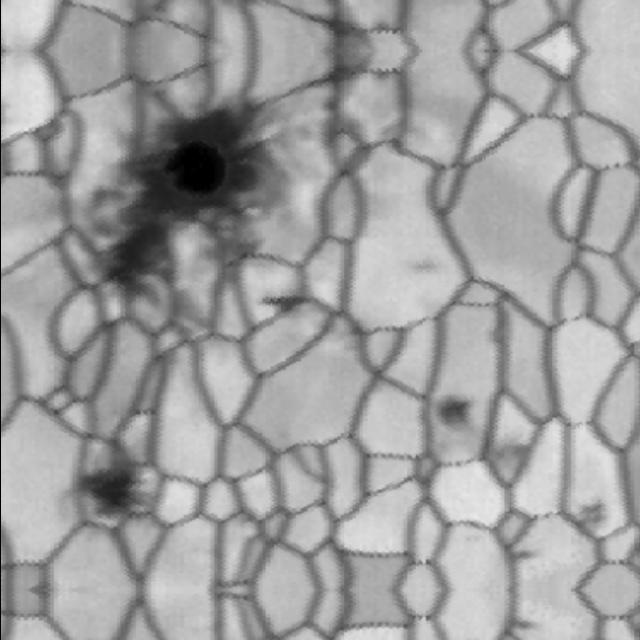good_void: (58, 51, 303, 333), (58, 444, 163, 533), (419, 370, 502, 452), (248, 268, 319, 335), (388, 239, 452, 304), (555, 487, 613, 545), (495, 531, 551, 587), (495, 592, 551, 640), (483, 426, 533, 475)
